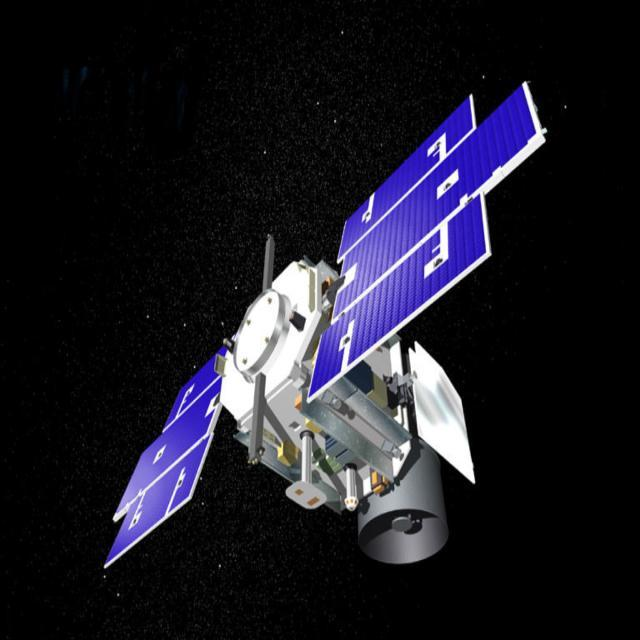sat: (105, 85, 547, 583)
